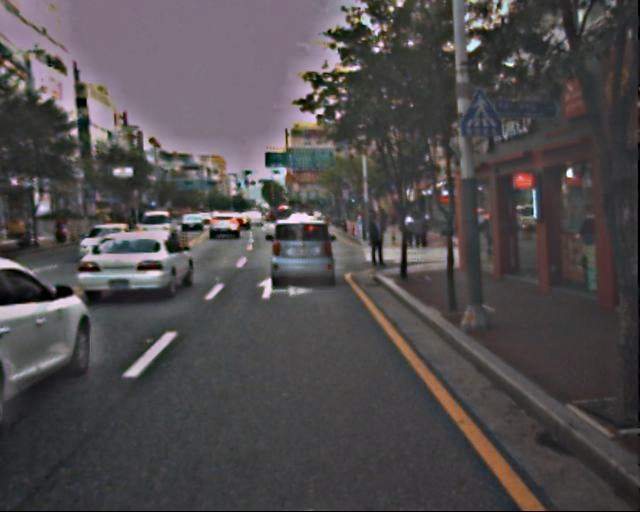person: (367, 211, 390, 267), (403, 215, 427, 248)
